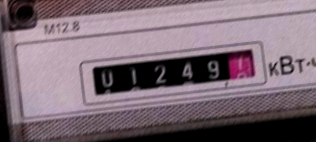0: (99, 67, 115, 88)
1: (126, 64, 140, 86)
2: (151, 62, 169, 85)
4: (179, 59, 195, 80)
7: (233, 50, 248, 71)
9: (205, 58, 221, 80)
screen: (75, 36, 271, 108)
